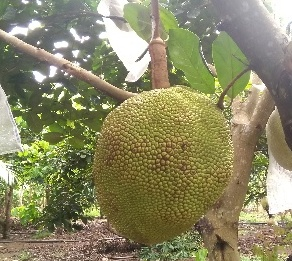Mit: (93, 87, 234, 245)
